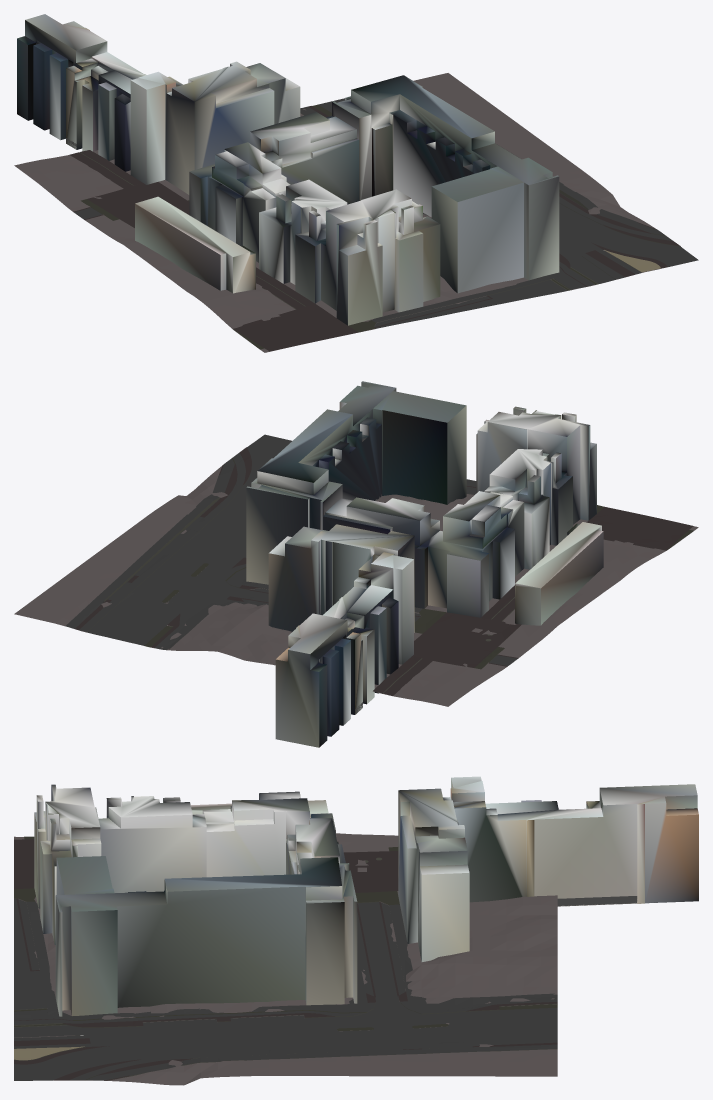
The picture shows the model from 3 angles, top to bottom: view 1: azimuth 30°, elevation 25°; view 2: azimuth 150°, elevation 25°; view 3: azimuth 270°, elevation 25°; orthographic projection. The views are drawn at different scales.
Visible parts, largest first — view 1: c_m14_p10; view 2: c_m14_p10; view 3: c_m14_p10.
Boxes of the visible parts, left/top/right/bottom form: c_m14_p10: left=14, top=14, right=698, bottom=352; c_m14_p10: left=14, top=381, right=698, bottom=747; c_m14_p10: left=14, top=776, right=698, bottom=1085.
Bounding box in the file's own units: 128 × 32.02 × 161.
